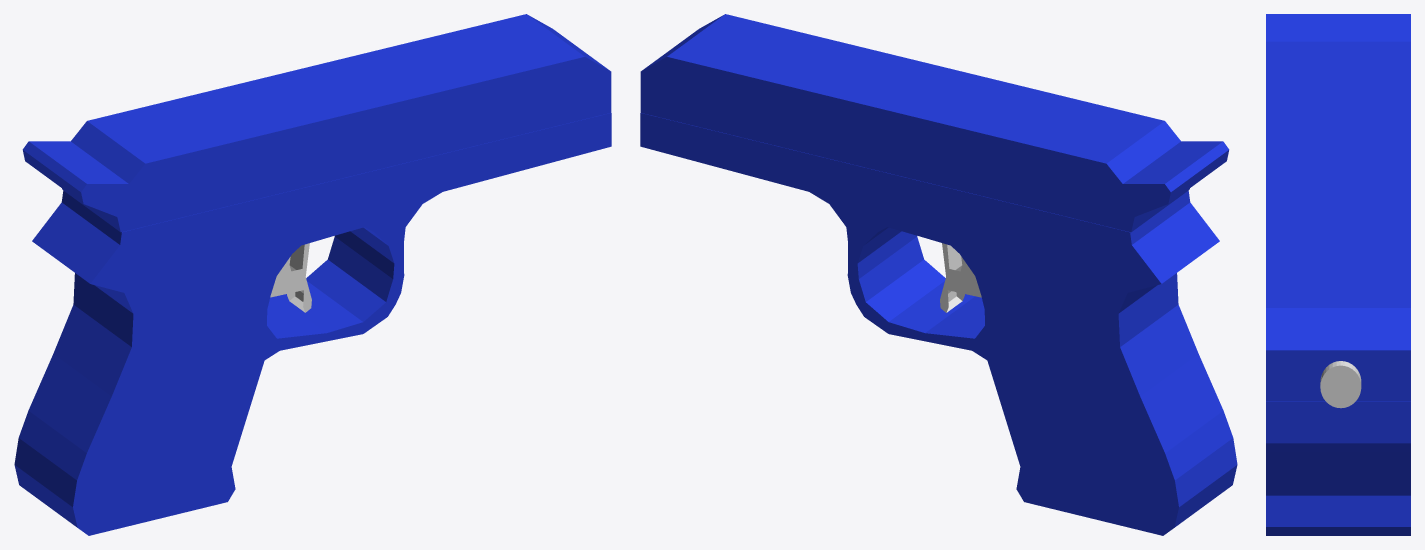
The model's file is pistolaAgua.fbx.
3 views of the same model, side by side, from view 1: azimuth 30°, elevation 25°; view 2: azimuth 150°, elevation 25°; view 3: azimuth 270°, elevation 25° (orthographic). The views are drawn at different scales.
Visible parts, largest first — view 1: Cube, Cube.001, Cube.002; view 2: Cube, Cube.001, Cube.002; view 3: Cube.001, Cube, Cylinder.
Boxes of the visible parts, left/top/right/bottom form: Cube: left=14, top=113, right=611, bottom=535; Cube.001: left=22, top=14, right=611, bottom=232; Cube.002: left=270, top=243, right=311, bottom=312; Cube: left=640, top=113, right=1237, bottom=535; Cube.001: left=640, top=14, right=1229, bottom=232; Cube.002: left=940, top=243, right=981, bottom=312; Cube.001: left=1266, top=14, right=1410, bottom=401; Cube: left=1266, top=401, right=1410, bottom=535; Cylinder: left=1320, top=361, right=1361, bottom=408.
Size of the model in its own units: 745 by 467 by 138.
